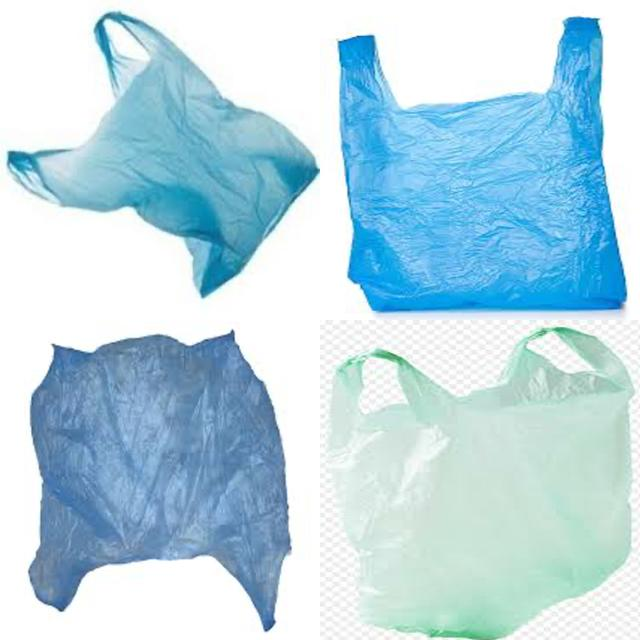Single-layer Plastic: (326, 326, 635, 639), (8, 12, 319, 296), (339, 18, 626, 311), (30, 334, 290, 628)
